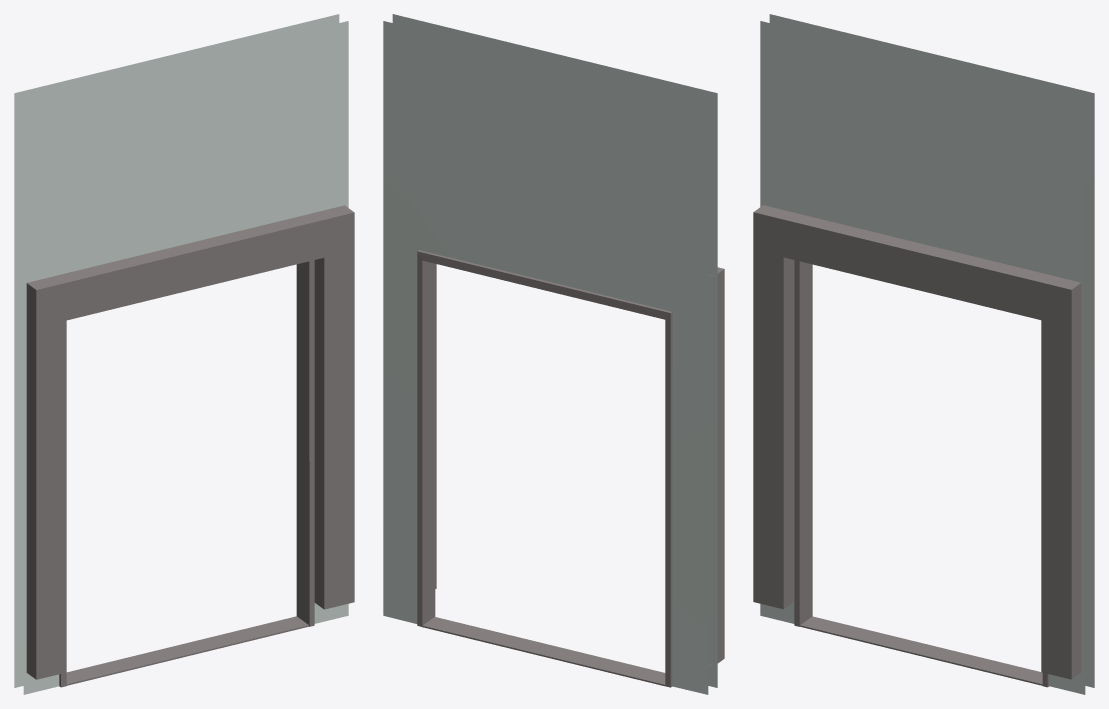
The model's file is SM_Outer_DoorFrame_B1_400.fbx.
The picture shows the model from 3 angles, left to right: view 1: azimuth 30°, elevation 25°; view 2: azimuth 150°, elevation 25°; view 3: azimuth 330°, elevation 25°; orthographic projection.
Visible parts, largest first — view 1: SM_Outer_DoorFrame_B1_400; view 2: SM_Outer_DoorFrame_B1_400; view 3: SM_Outer_DoorFrame_B1_400.
Boxes of the visible parts, left/top/right/bottom form: SM_Outer_DoorFrame_B1_400: left=14, top=14, right=354, bottom=694; SM_Outer_DoorFrame_B1_400: left=383, top=14, right=724, bottom=694; SM_Outer_DoorFrame_B1_400: left=753, top=14, right=1094, bottom=694.
Size of the model in its own units: 400 by 45.01 by 700.
5 materials, 5 textured.
